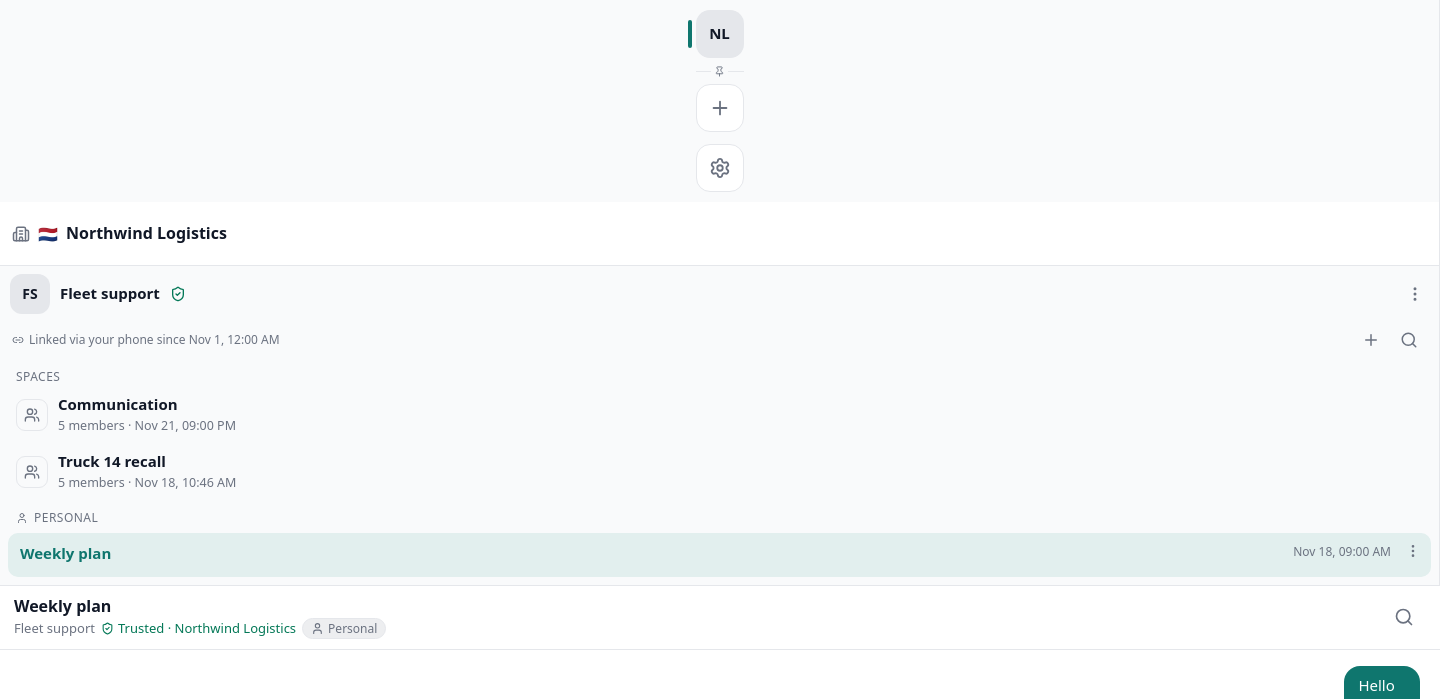
Test: deciding in the Notifications (UI-APPR-002, UI-APPR-008, PROF-TOOL-026) › shows what became of each: who decided and when, the person's own while others decide, Sent by you
Click the button with class "space-row" that starts with "Communication". click: (32, 415)
box: [8,387,1431,442]
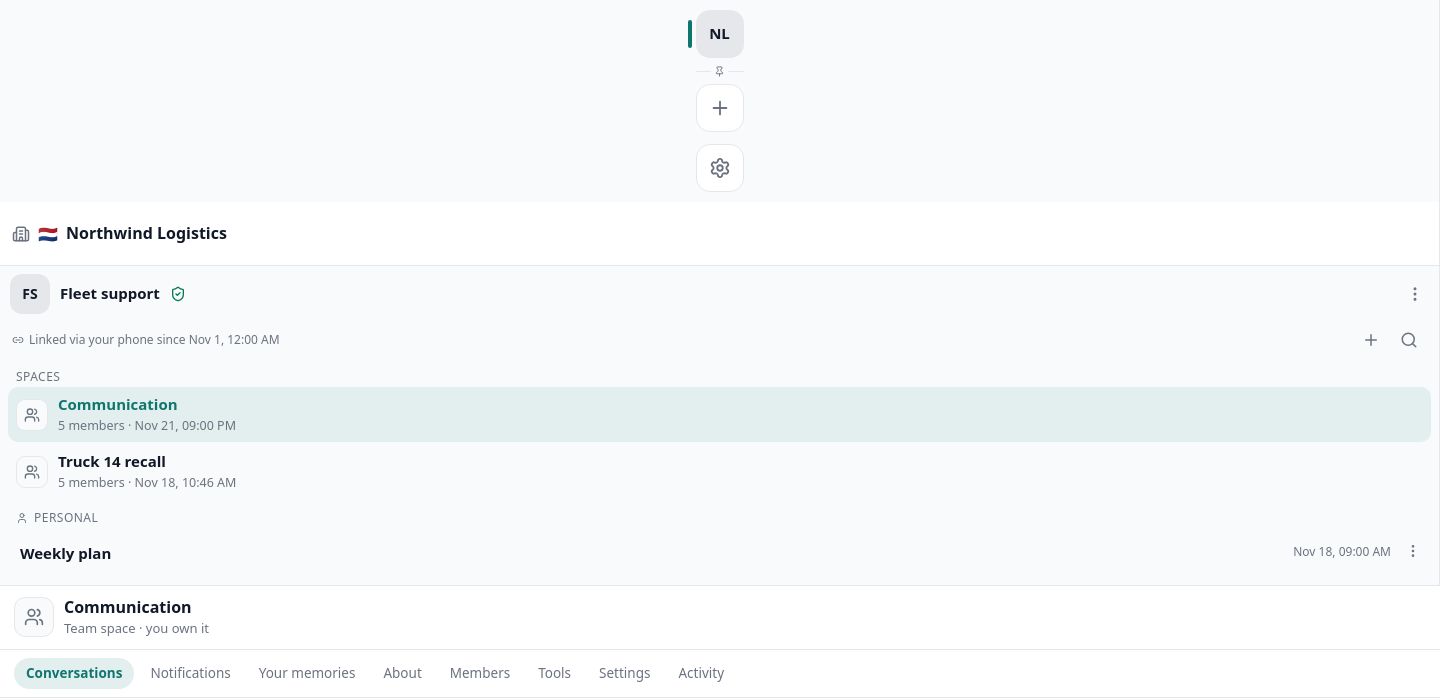
Click the tab "Notifications". click: (191, 673)
box: [138,658,243,689]
(page scrolled)
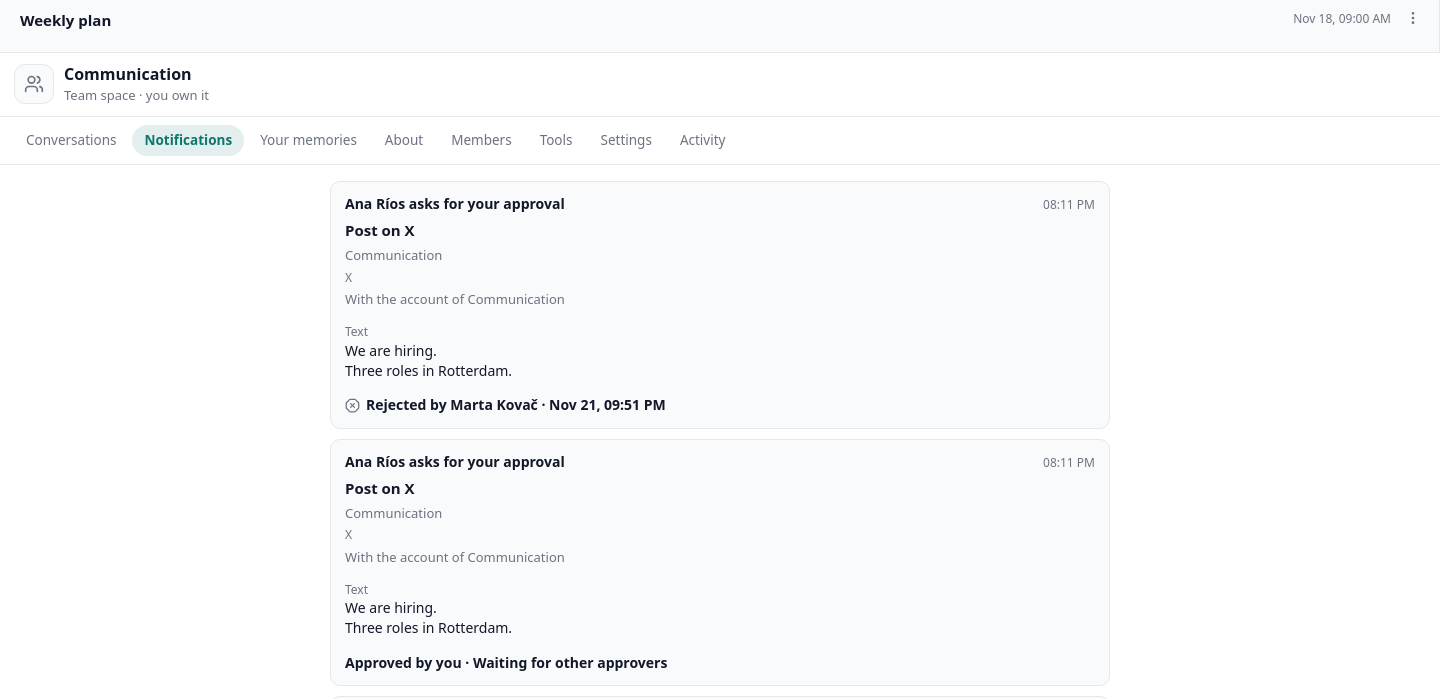
Check: the 3rd icon is shown, box [345,398,360,413]
Check: the text "Approved by you · Waiting for other approvers" is shown, box [345,653,667,673]
